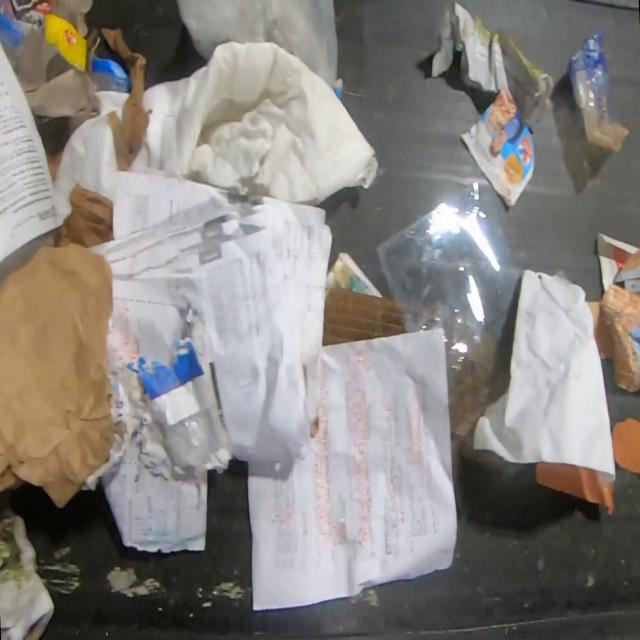cardboard: (0, 0, 103, 140), (598, 246, 639, 394), (322, 286, 406, 348), (448, 398, 505, 488), (53, 181, 115, 250), (38, 118, 68, 185), (88, 55, 132, 94), (586, 298, 612, 360)
rigid_plastic: (568, 31, 632, 156)
soft_plastic: (123, 42, 379, 207), (373, 174, 523, 410), (174, 0, 340, 90), (158, 407, 225, 471), (100, 92, 132, 122)
